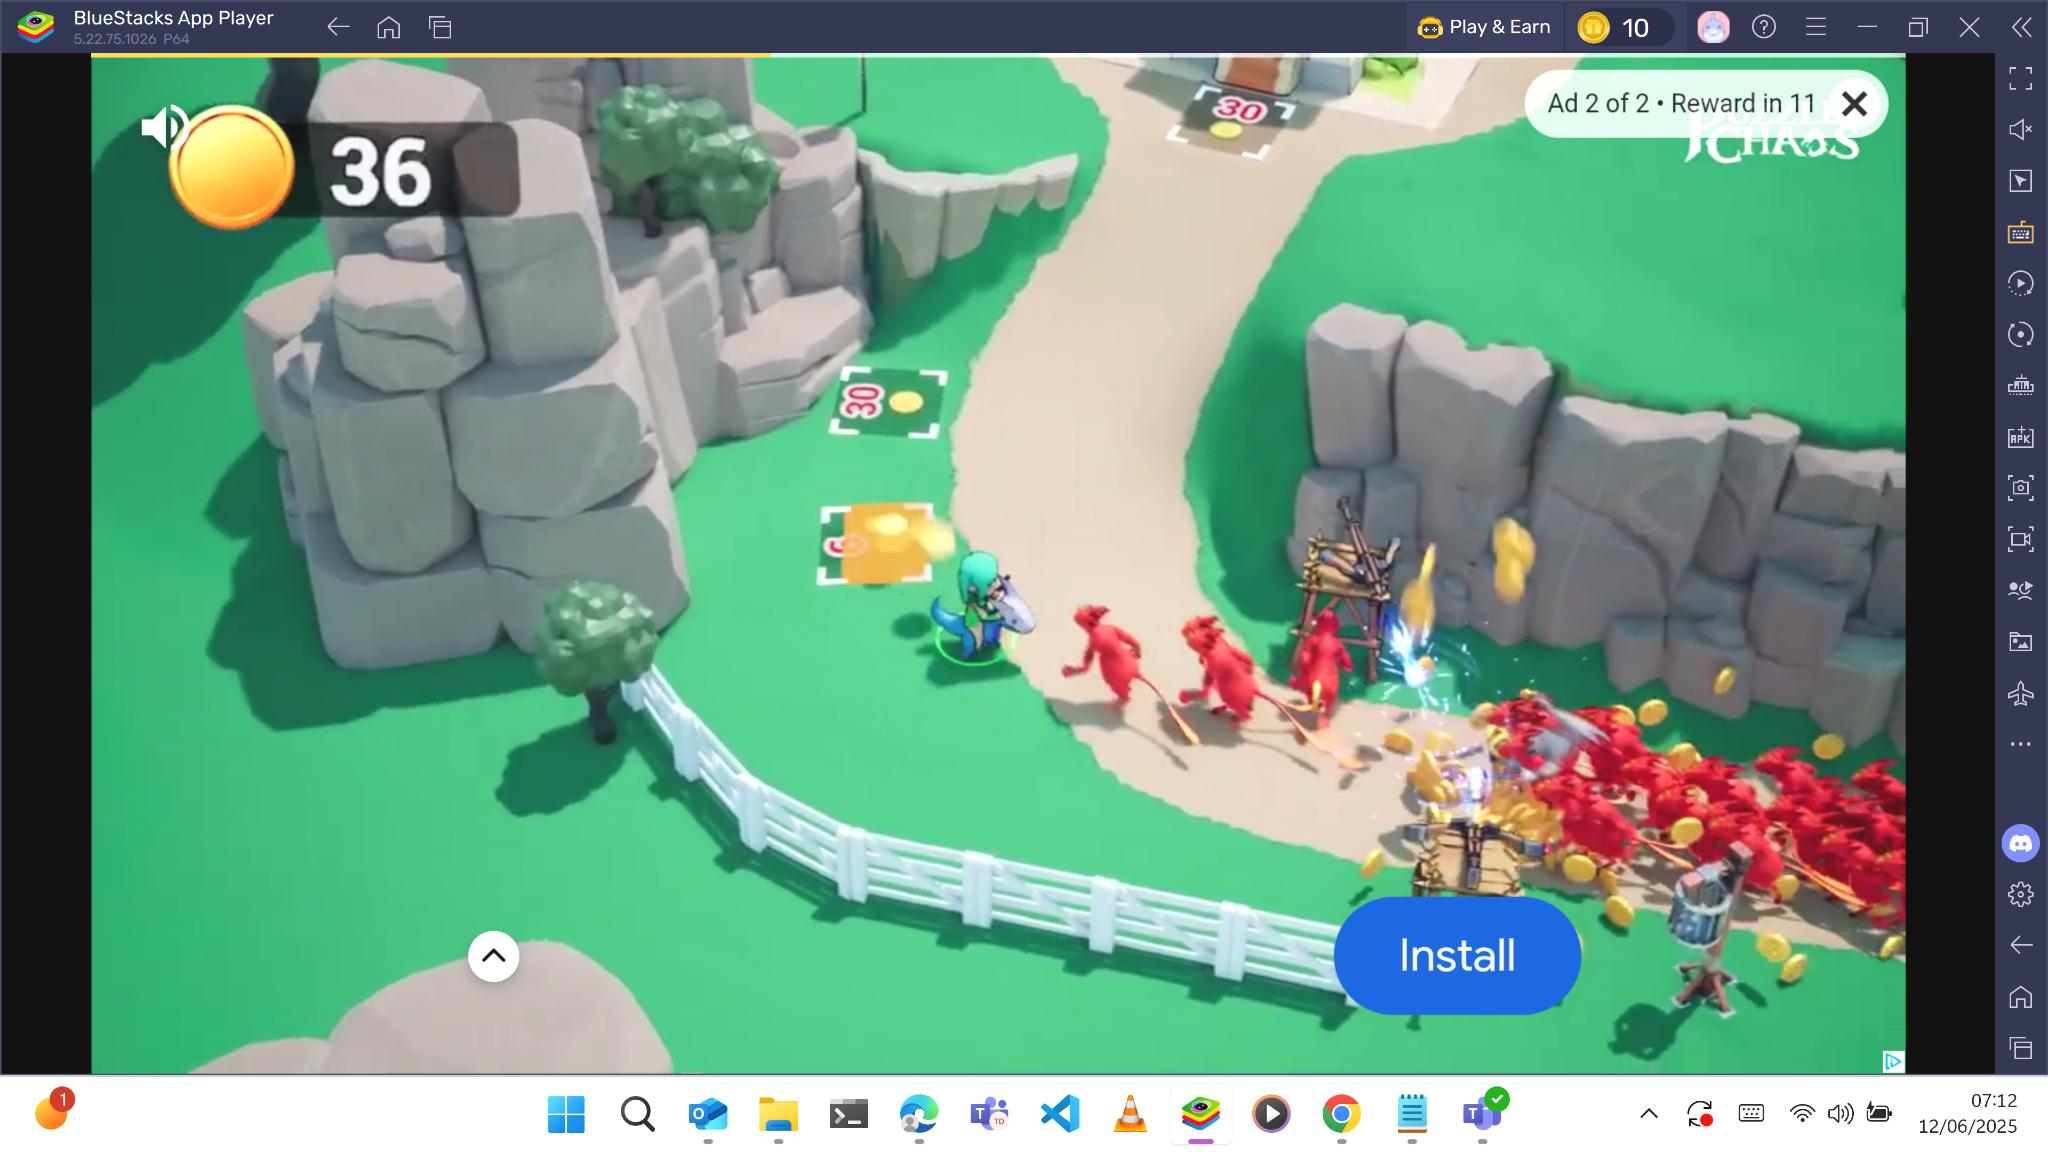close_ad: (1840, 89, 1869, 120)
